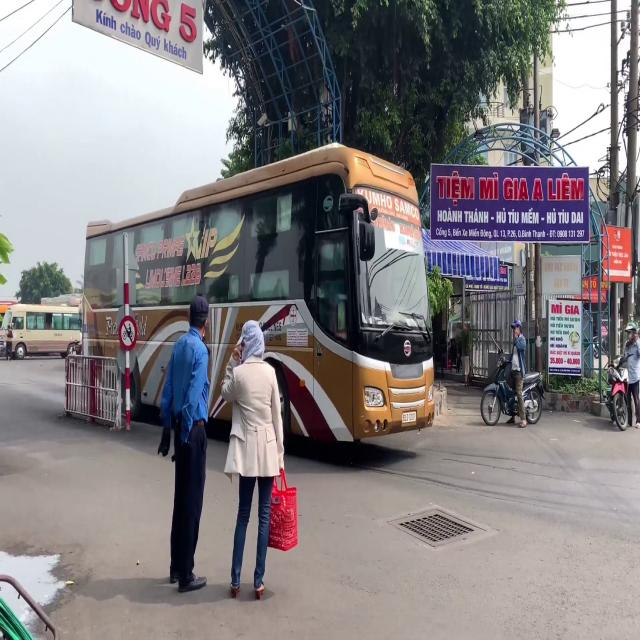bien_trang: (402, 411, 416, 423)
